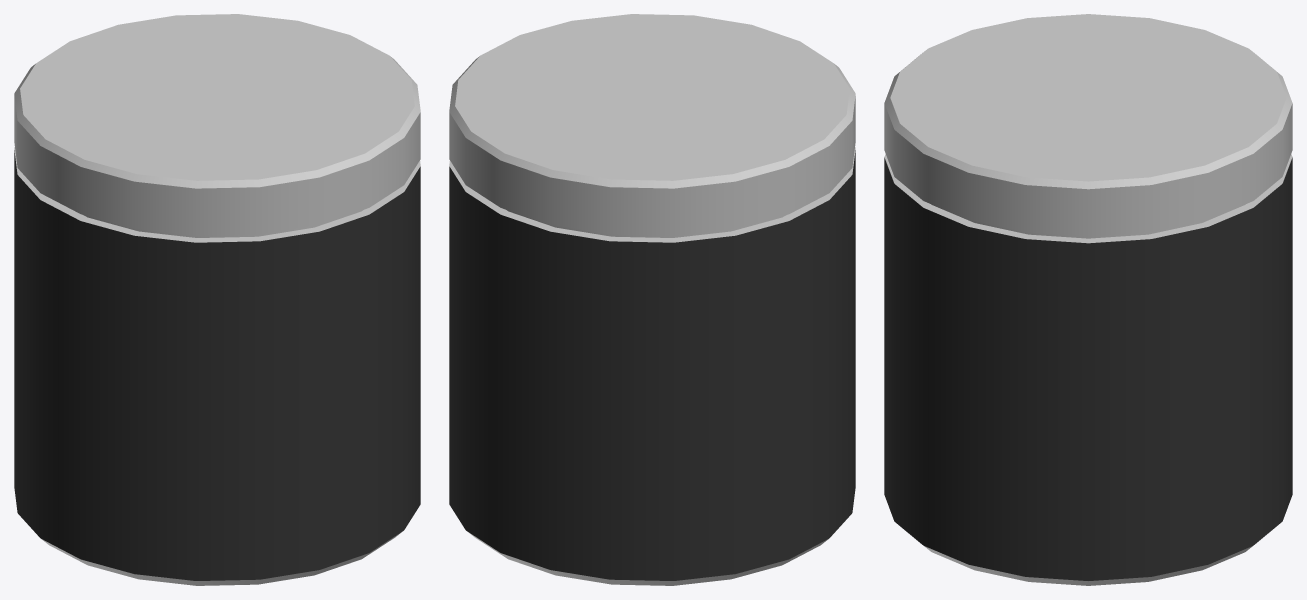
The model's file is Tea cans.fbx.
The picture shows the model from 3 angles, left to right: view 1: azimuth 30°, elevation 25°; view 2: azimuth 150°, elevation 25°; view 3: azimuth 270°, elevation 25°; orthographic projection.
Visible parts, largest first — view 1: pCylinder26; view 2: pCylinder26; view 3: pCylinder26.
Boxes of the visible parts, x1=… form: pCylinder26: x1=14, y1=14, x2=420, y2=585; pCylinder26: x1=449, y1=14, x2=855, y2=585; pCylinder26: x1=884, y1=14, x2=1292, y2=585.
Size of the model in its own units: 16.78 by 18.43 by 16.78.
